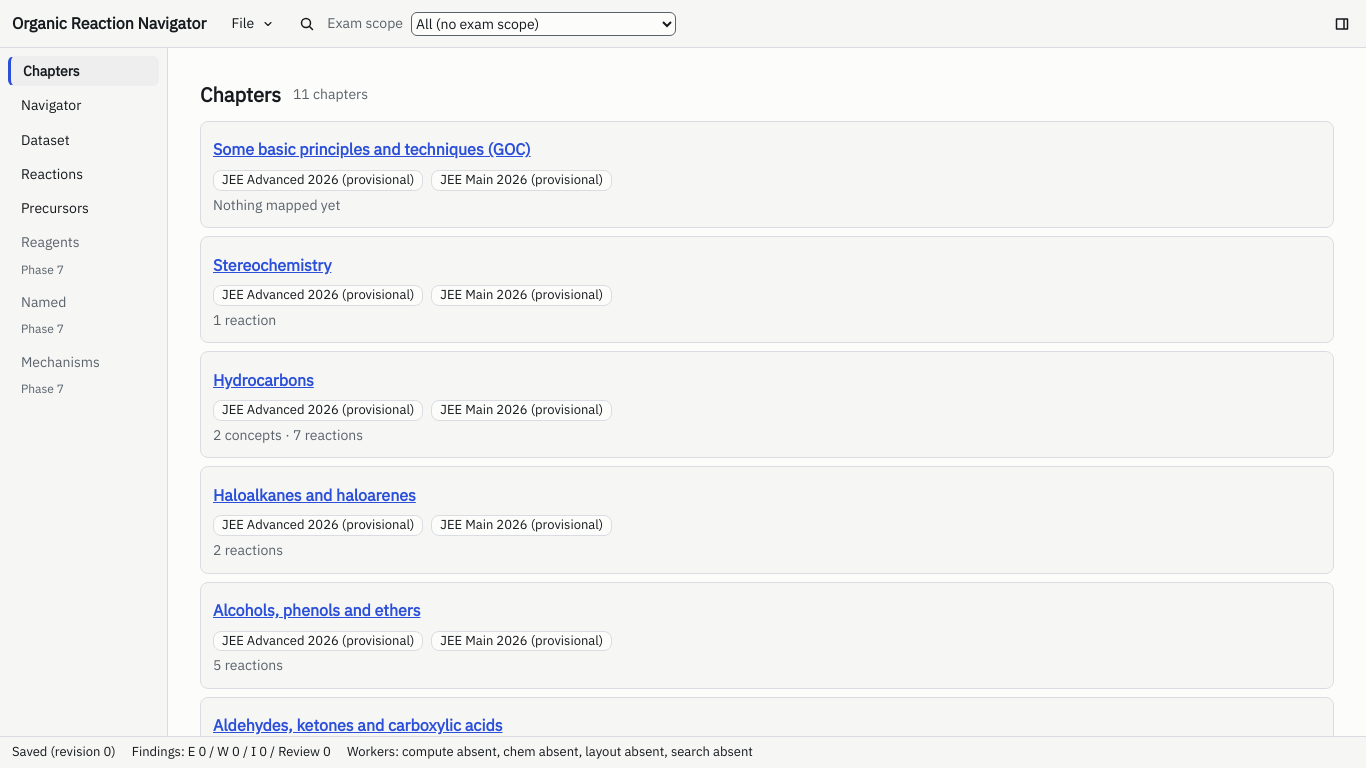
Test: the Precursors mode › a saved target shows its direct reactions, and Search runs through the route service
The width and height of the screenshot is (1366, 768).
Click the button "Precursors" at (84, 208), box x1=8 y1=193 x2=159 y2=224
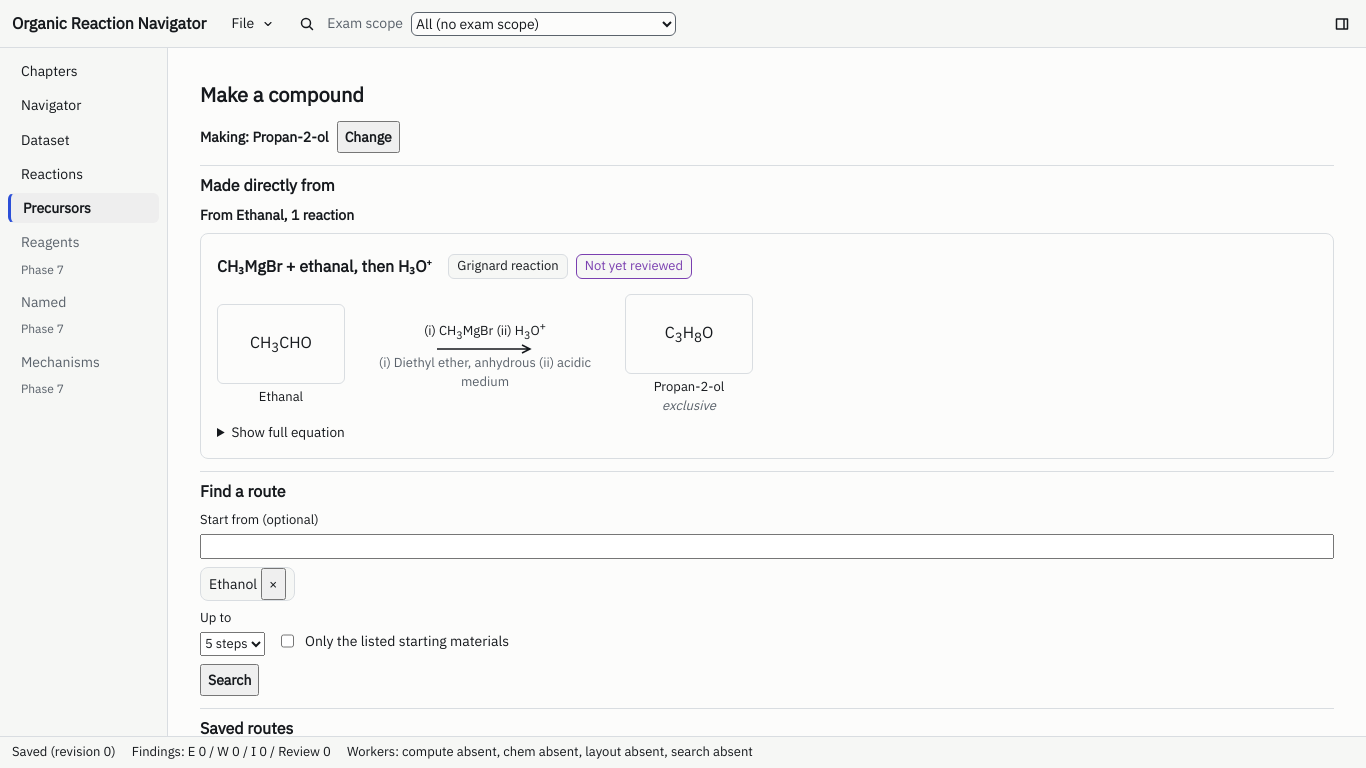
Click the button "Search" at (230, 680), box x1=200 y1=664 x2=259 y2=696
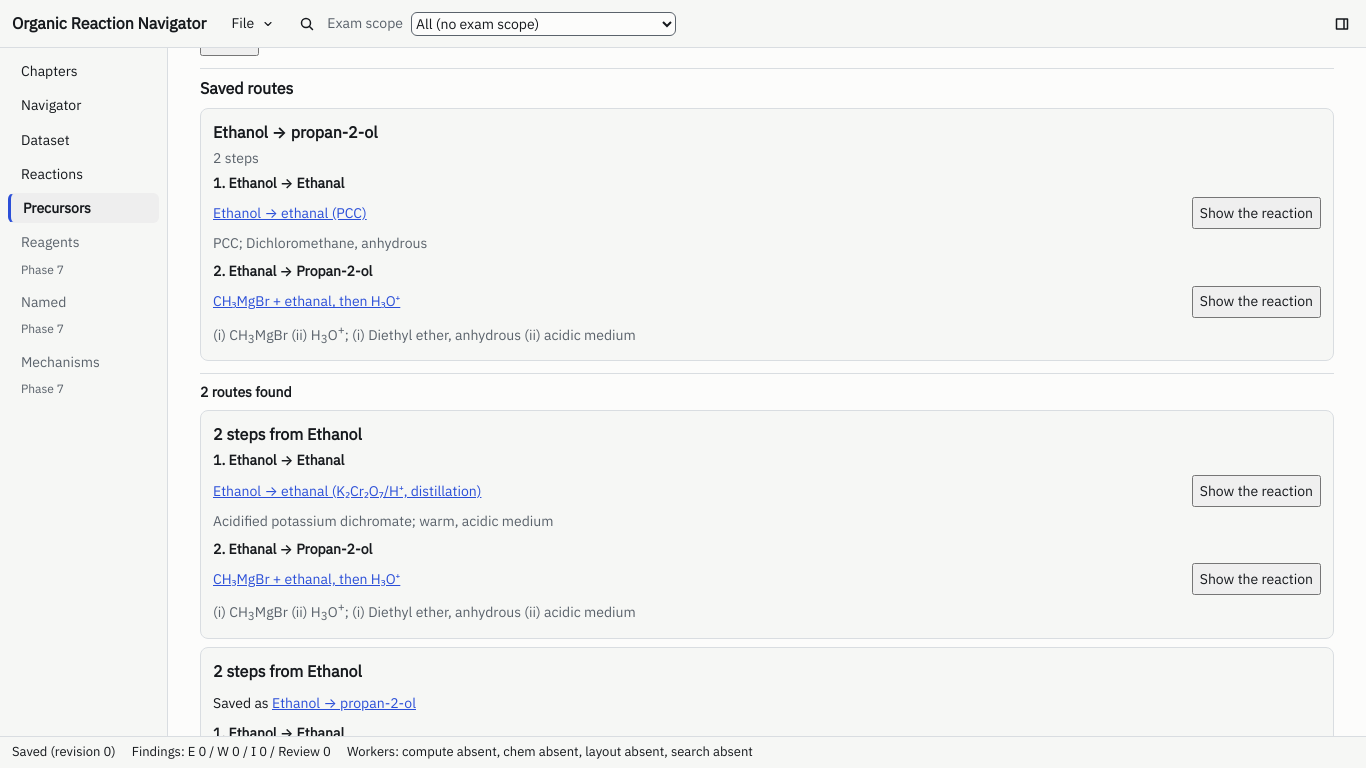
Check: the text "2 routes found" is shown, box x1=200 y1=383 x2=292 y2=401
